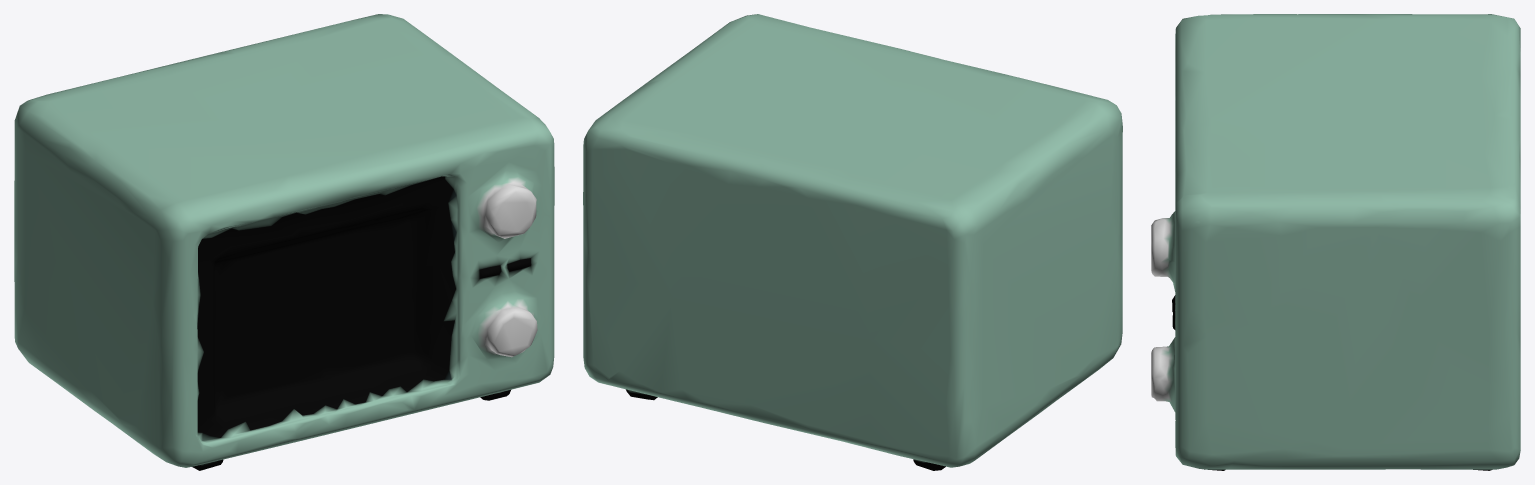
The model's file is gen3d-microwave-lod0.glb.
3 views of the same model, side by side, from view 1: azimuth 30°, elevation 25°; view 2: azimuth 150°, elevation 25°; view 3: azimuth 270°, elevation 25° (orthographic). The views are drawn at different scales.
Parts seen in each view (by area): view 1: part_0; view 2: part_0; view 3: part_0.
Part boxes in pixels (bbox=[...]): part_0: bbox=[14, 14, 554, 470]; part_0: bbox=[583, 14, 1122, 470]; part_0: bbox=[1151, 14, 1520, 470].
Size of the model in its own units: 1.49 by 1 by 1.17.
